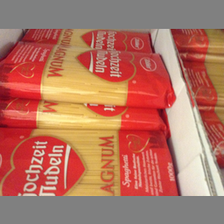pasta: (1, 127, 181, 196), (1, 42, 174, 108), (21, 30, 156, 52)
